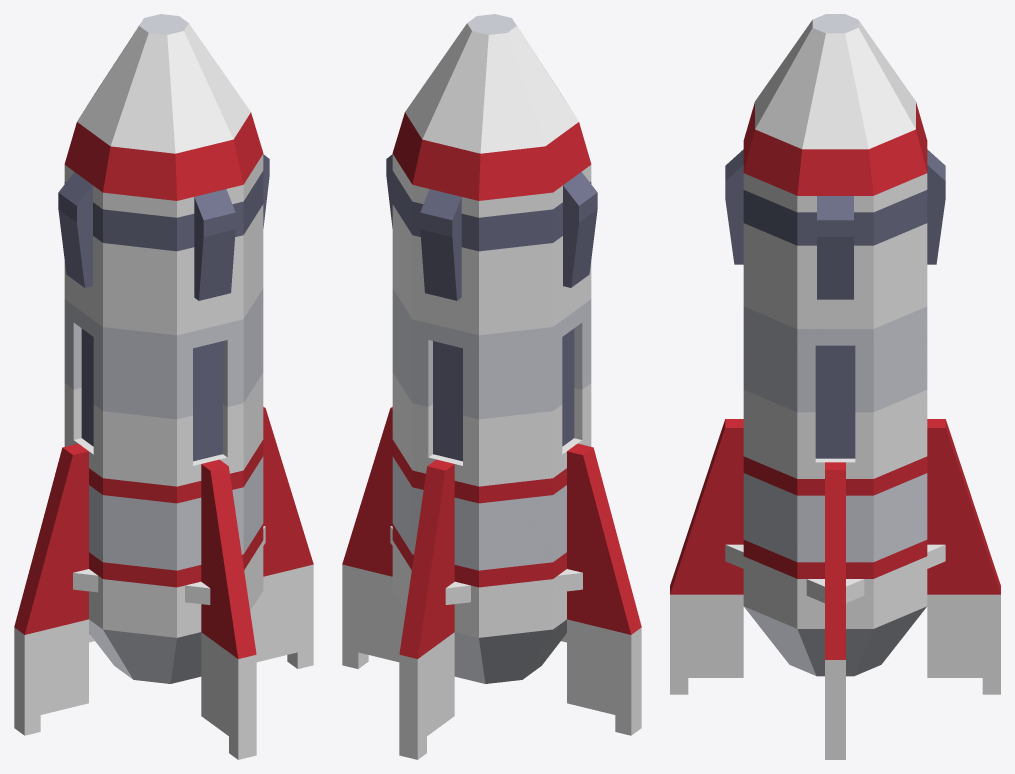
The model's file is Rocket-transformed.glb.
The picture shows the model from 3 angles, left to right: view 1: azimuth 30°, elevation 25°; view 2: azimuth 150°, elevation 25°; view 3: azimuth 270°, elevation 25°; orthographic projection.
Visible parts, largest first — view 1: rocket_topA2; view 2: rocket_topA2; view 3: rocket_topA2.
Part boxes in pixels (left/top/right/bottom): rocket_topA2: left=14, top=14, right=313, bottom=759; rocket_topA2: left=342, top=14, right=641, bottom=759; rocket_topA2: left=670, top=14, right=1000, bottom=759.
Bounding box in the file's own units: 1.8 × 4 × 1.8.
Materials: 1 (1 with a texture image).
